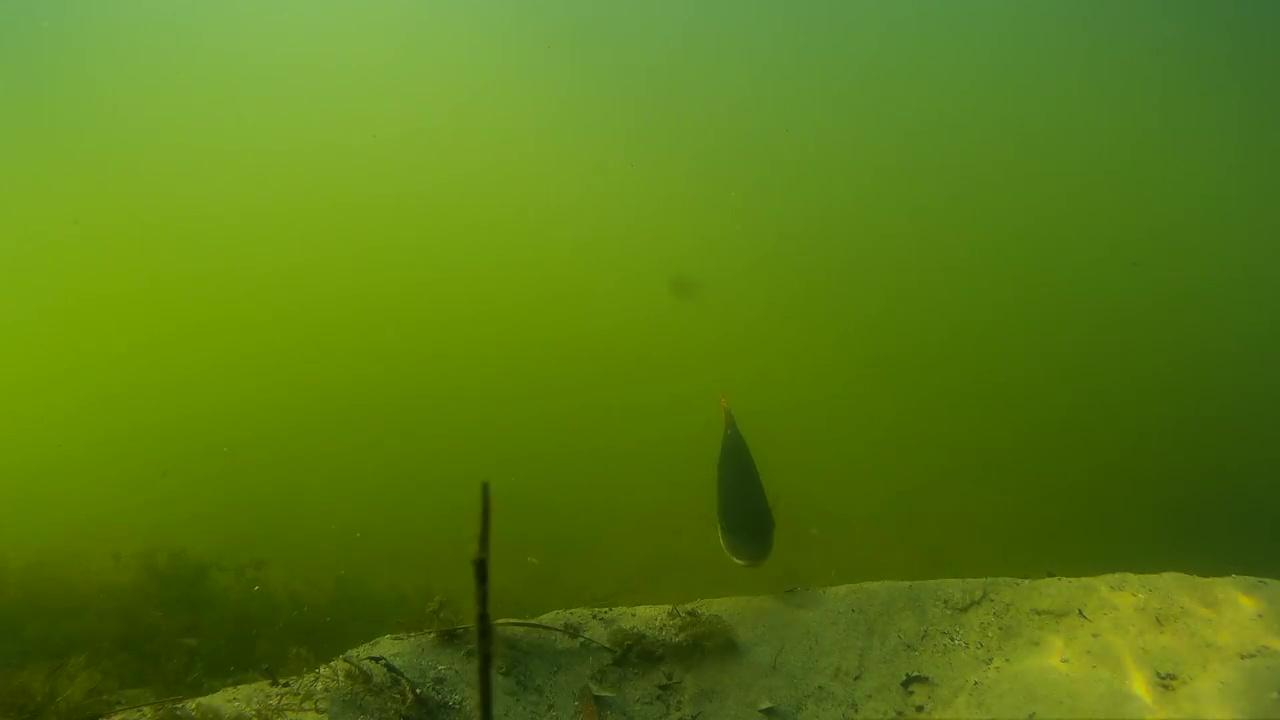Tilapia: (715, 390, 790, 572)
